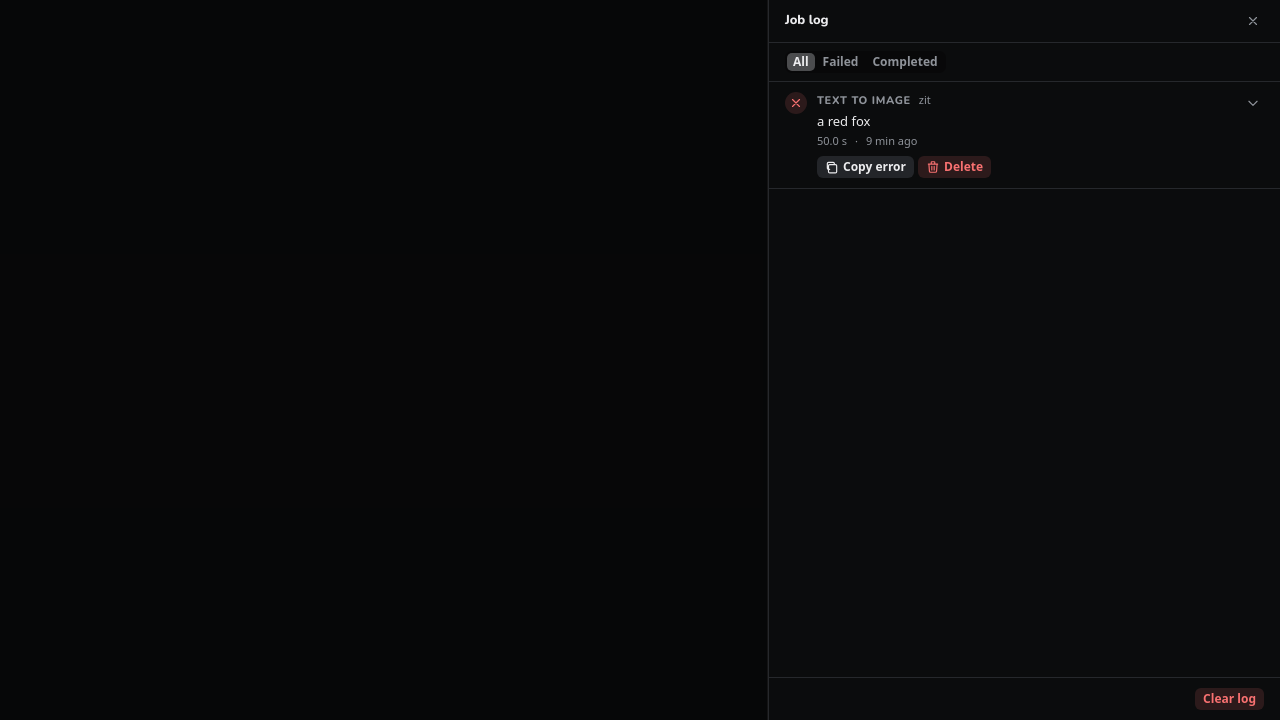
Test case: JobLogDrawer › row actions › selects the error instead when the clipboard is unavailable
Click the button "Copy error".
click(866, 166)  # box x1=817 y1=156 x2=914 y2=178
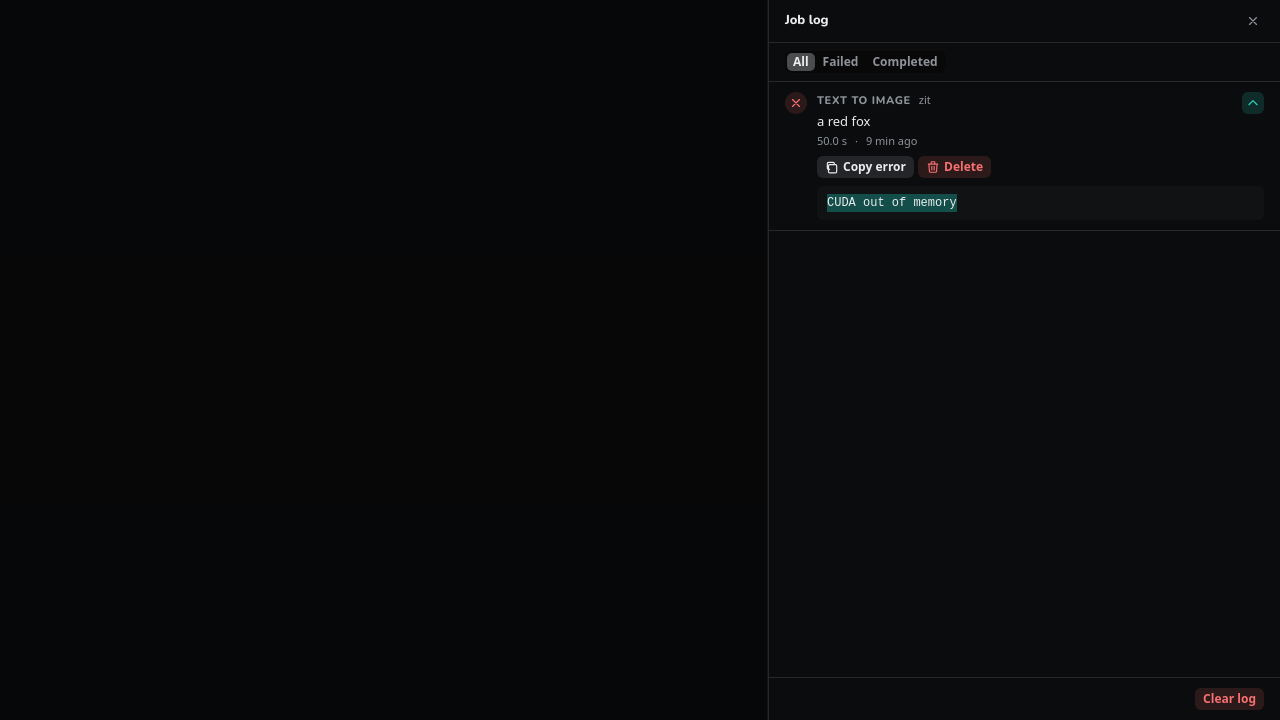
Now the text "CUDA out of memory" is shown, box x1=827 y1=196 x2=957 y2=210
